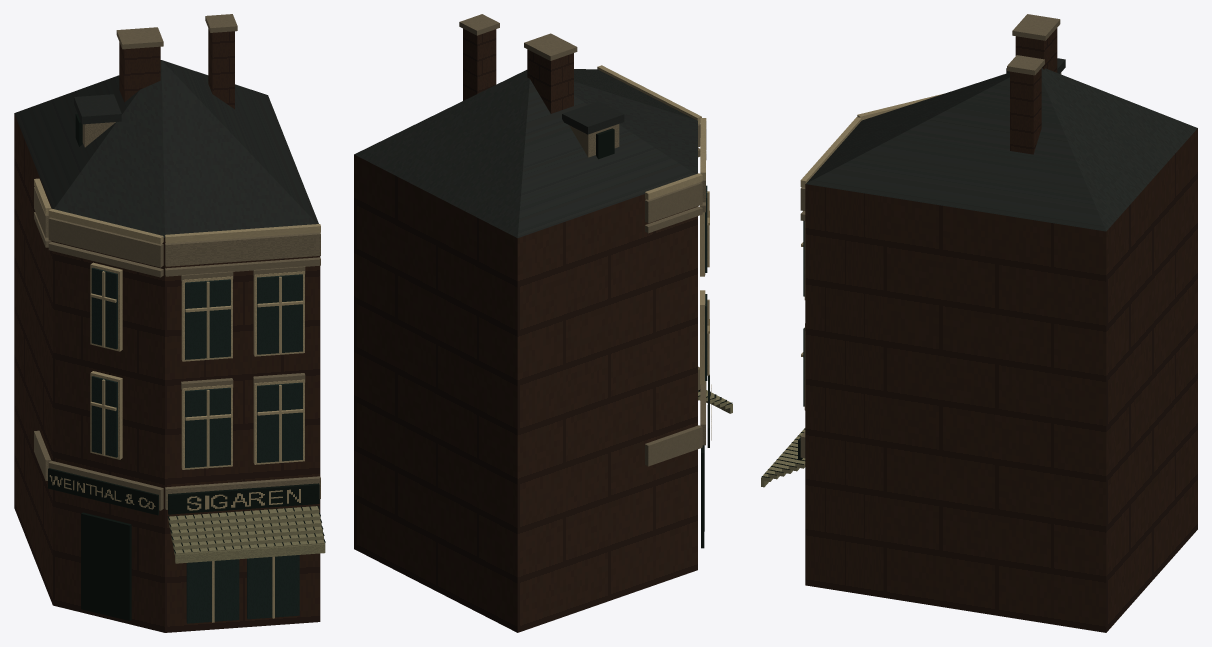
3 renders of one model, left to right at view 1: azimuth 30°, elevation 25°; view 2: azimuth 150°, elevation 25°; view 3: azimuth 270°, elevation 25°, orthographic.
Visible parts, largest first — view 1: weinthal-goudsesingel-0, weinthal-goudsesingel-1, weinthal-goudsesingel-5, weinthal-goudsesingel-2, weinthal-goudsesingel-4, weinthal-goudsesingel-3, weinthal-goudsesingel-6; view 2: weinthal-goudsesingel-0, weinthal-goudsesingel-1, weinthal-goudsesingel-2, weinthal-goudsesingel-4, weinthal-goudsesingel-3; view 3: weinthal-goudsesingel-0, weinthal-goudsesingel-1, weinthal-goudsesingel-2, weinthal-goudsesingel-4, weinthal-goudsesingel-6.
Boxes of the visible parts, box(x1,y1,x2,y2) form: weinthal-goudsesingel-0: box(14, 28, 320, 632); weinthal-goudsesingel-1: box(14, 60, 318, 237); weinthal-goudsesingel-5: box(91, 267, 302, 623); weinthal-goudsesingel-2: box(34, 14, 320, 510); weinthal-goudsesingel-4: box(34, 178, 320, 622); weinthal-goudsesingel-3: box(48, 114, 325, 620); weinthal-goudsesingel-6: box(168, 506, 325, 563); weinthal-goudsesingel-0: box(354, 28, 697, 632); weinthal-goudsesingel-1: box(354, 69, 697, 238); weinthal-goudsesingel-2: box(459, 14, 706, 466); weinthal-goudsesingel-4: box(597, 65, 711, 440); weinthal-goudsesingel-3: box(596, 128, 732, 548); weinthal-goudsesingel-0: box(805, 28, 1197, 632); weinthal-goudsesingel-1: box(806, 58, 1197, 231); weinthal-goudsesingel-2: box(800, 14, 1061, 458); weinthal-goudsesingel-4: box(800, 93, 943, 410); weinthal-goudsesingel-6: box(761, 428, 805, 487).
Bounding box in the file's own units: 9.46 × 16.3 × 12.23.
7 materials, 7 textured.
